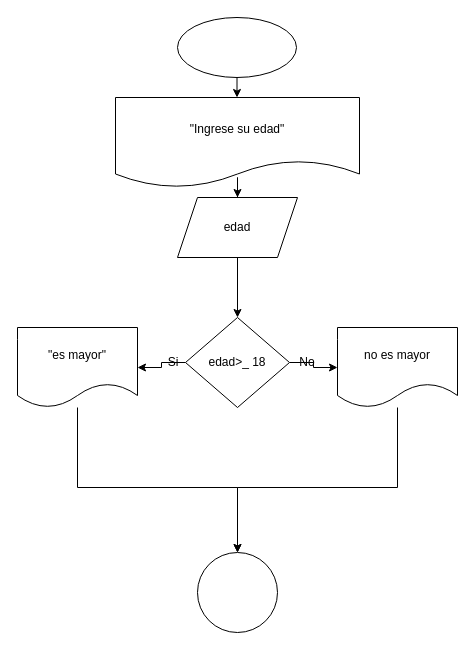
Some shapes in this 475 by 650 pixel diagram are drawn without their labels. The box of each missing label's shape, as (x1, y1, x2, y2) in pixels:
FIN: (196, 552, 278, 632)
INICIO: (176, 16, 296, 78)
